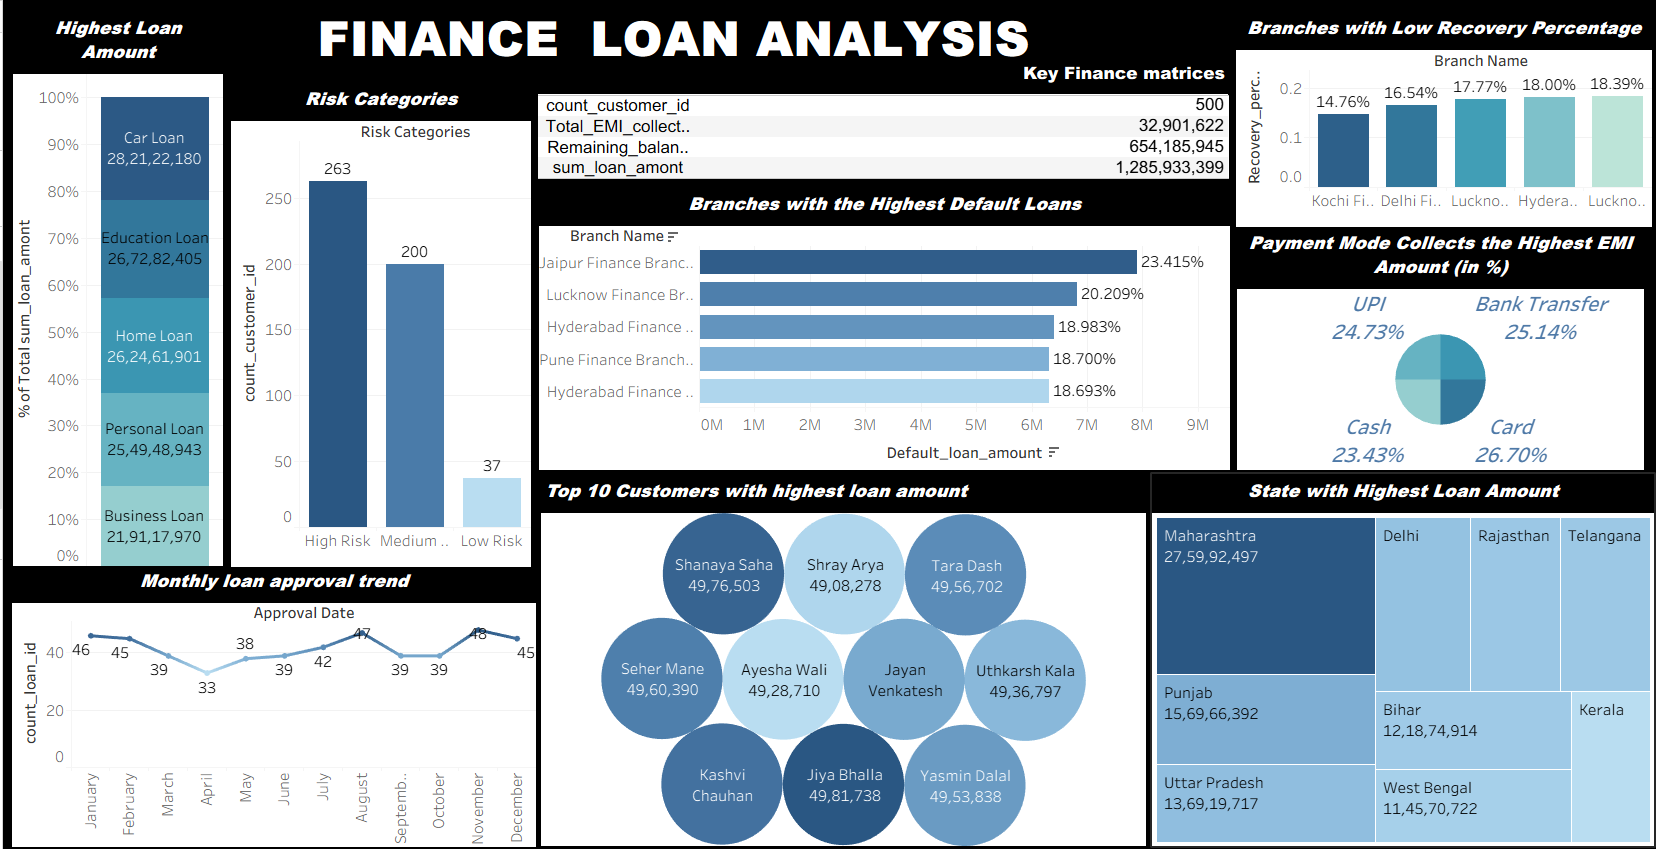

What the dashboard file says about the page in this screenshot:
{"tool":"tableau","page":{"name":"Dashboard 1","canvas":[1000,1000],"units":"permille","ordinal":0},"visuals":[{"type":"text","box":[66.4,3.5,676.5,81.1]},{"type":"worksheet","title":"Q2","mark":"Automatic","box":[6,12.9,126.7,652.2]},{"type":"worksheet","title":"Q9","mark":"Automatic","rows":["Calculation_1279285000232970"],"cols":["branch_name"],"box":[744.1,12.9,251.1,253.8]},{"type":"worksheet","title":"Q1","mark":"Automatic","box":[322.9,65.8,417,144.5]},{"type":"worksheet","title":"Q8","mark":"Automatic","rows":["Calculation_0100059135356928"],"cols":["Calculation_0921669894918144"],"box":[137.6,96.4,181.1,569.9]},{"type":"worksheet","title":"Q7","mark":"Automatic","rows":["branch_name"],"cols":["Calculation_1279284998660104"],"box":[323.5,219.7,417,332.6]},{"type":"worksheet","title":"Q6","mark":"Pie","box":[744.7,265.6,245.6,286.7]},{"type":"worksheet","title":"Q4","mark":"Circle","box":[324.7,557,365.1,437.1]},{"type":"worksheet","title":"Q5","mark":"Automatic","box":[693.4,557,303,437.1]},{"type":"worksheet","title":"Q3","mark":"Automatic","rows":["Calculation_1279284998131718"],"cols":["approval_date"],"box":[5.4,662.8,316.2,332.6]}]}

Visuals, with their boxes on the dashboard's canvas, which has no fixed pixel size, in thousandths of its width and height (x1, y1, x2, y2). These are canvas units, not pixel positions in the 1656x849 screenshot, which may show the page scaled, cropped or inside an application window:
text: pyautogui.locateOnScreen(66, 4, 743, 85)
"Q2" worksheet: pyautogui.locateOnScreen(6, 13, 133, 665)
"Q9" worksheet: pyautogui.locateOnScreen(744, 13, 995, 267)
"Q1" worksheet: pyautogui.locateOnScreen(323, 66, 740, 210)
"Q8" worksheet: pyautogui.locateOnScreen(138, 96, 319, 666)
"Q7" worksheet: pyautogui.locateOnScreen(324, 220, 740, 552)
"Q6" worksheet (Pie marks): pyautogui.locateOnScreen(745, 266, 990, 552)
"Q4" worksheet (Circle marks): pyautogui.locateOnScreen(325, 557, 690, 994)
"Q5" worksheet: pyautogui.locateOnScreen(693, 557, 996, 994)
"Q3" worksheet: pyautogui.locateOnScreen(5, 663, 322, 995)
